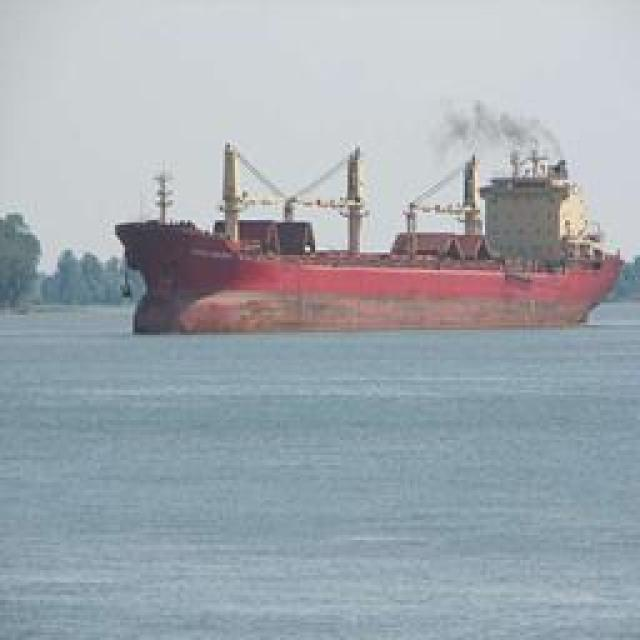CIV_Ship: (128, 126, 628, 336)
